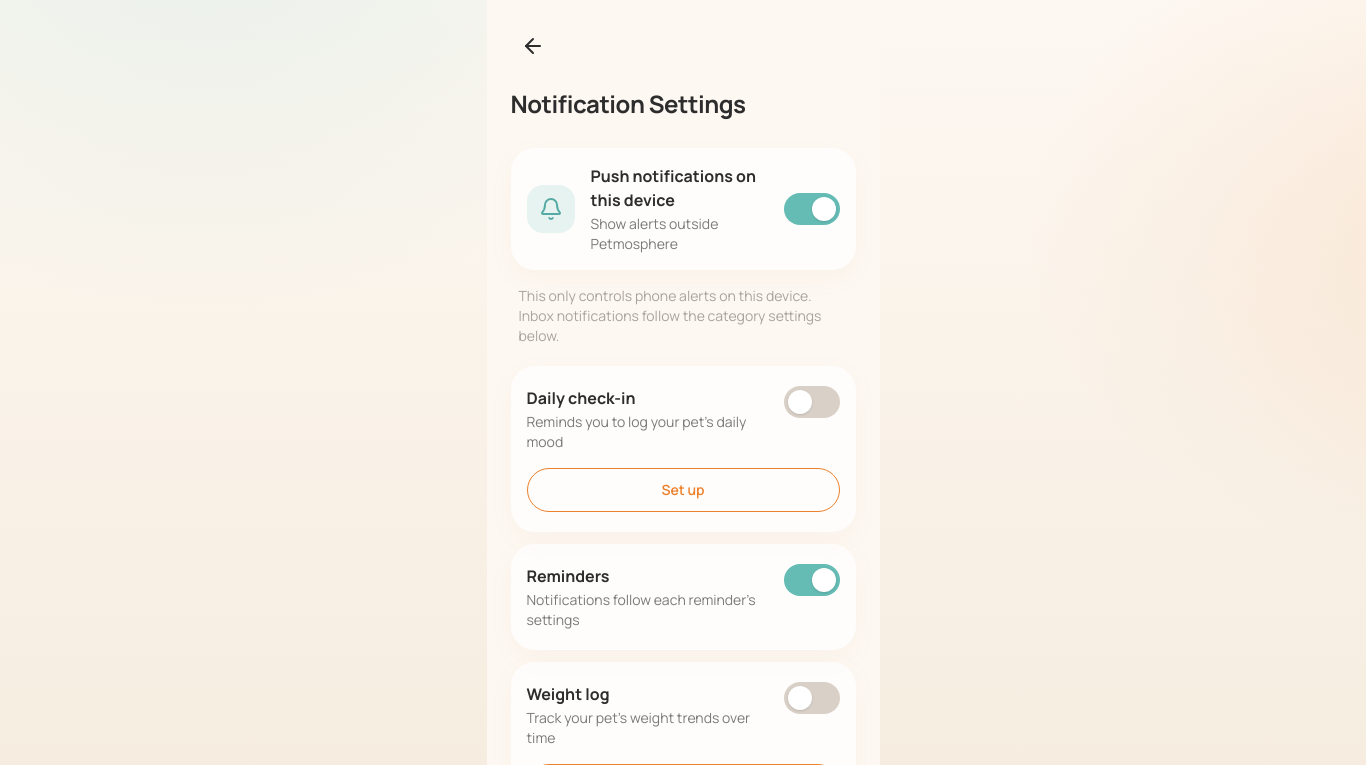
Test case: NotificationSettings › shows setup actions until feature schedules exist
The image size is (1366, 765).
Step 1. Click the button with aria-label "Set up Daily check-in" → click(683, 490), box [526, 468, 840, 512]
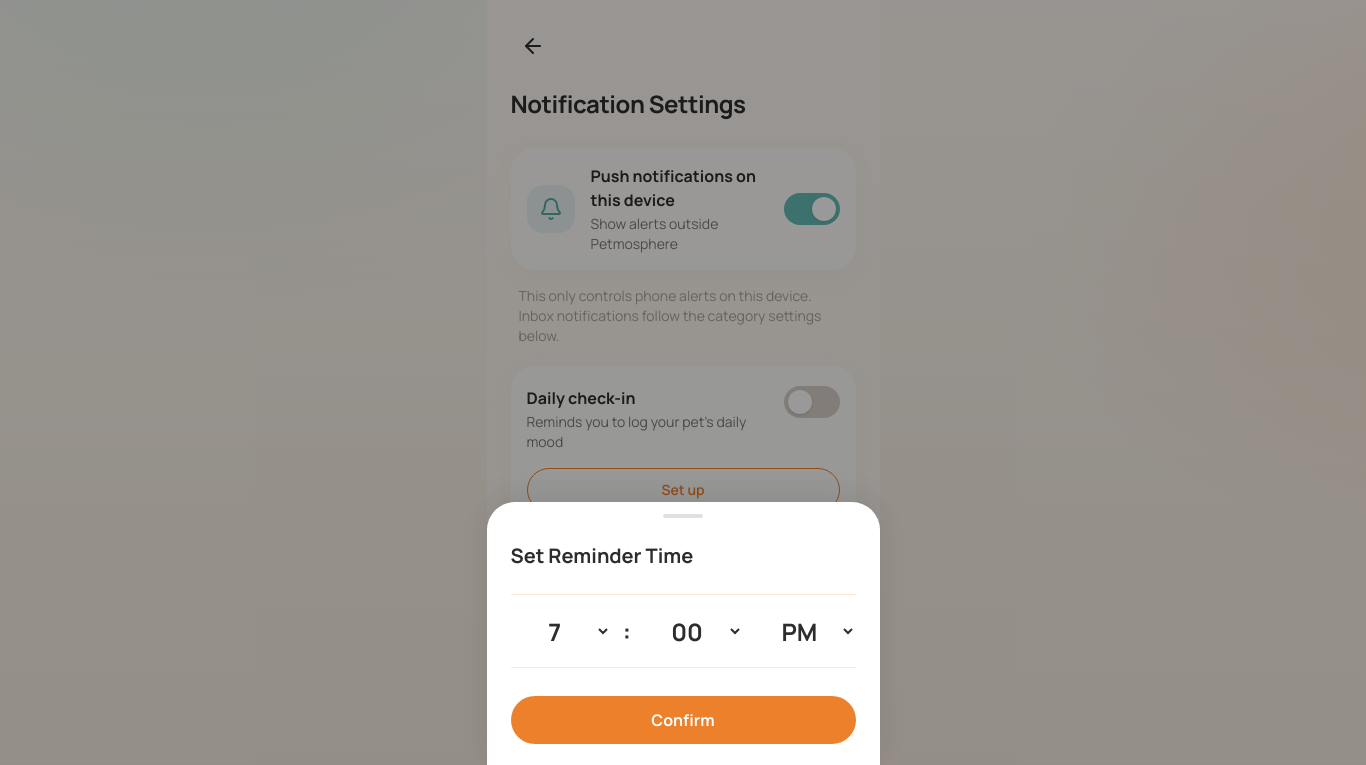
Expected: the heading "Set Reminder Time" is shown, [510, 542, 693, 569]
